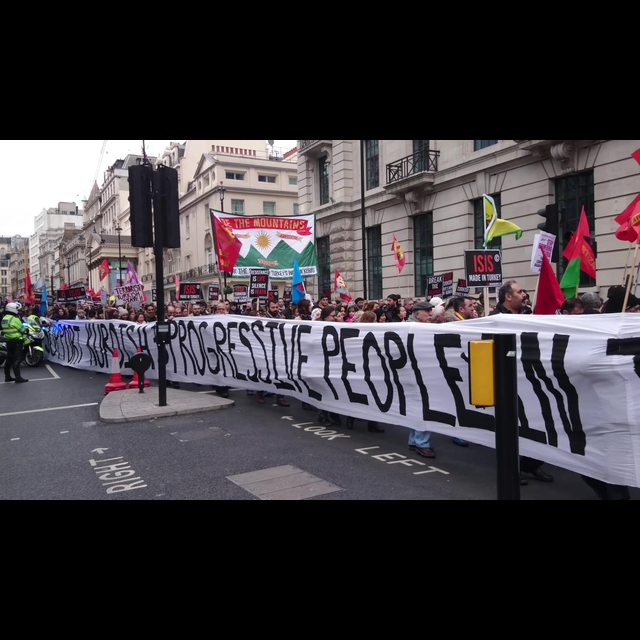YPG: (481, 210, 506, 232)
